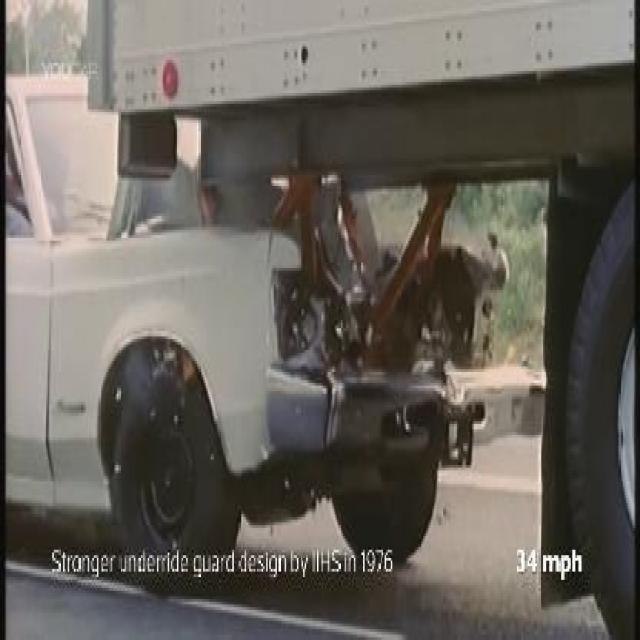accident: (1, 0, 637, 599)
